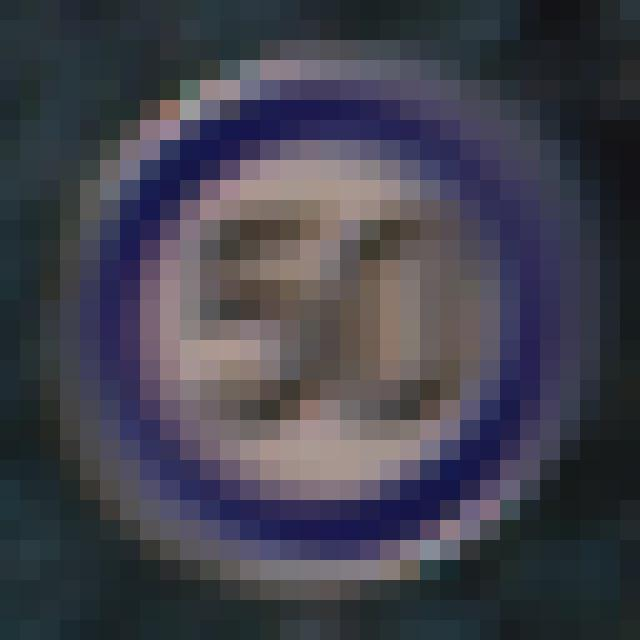SPEED LIMIT 50: (140, 140, 542, 536)
